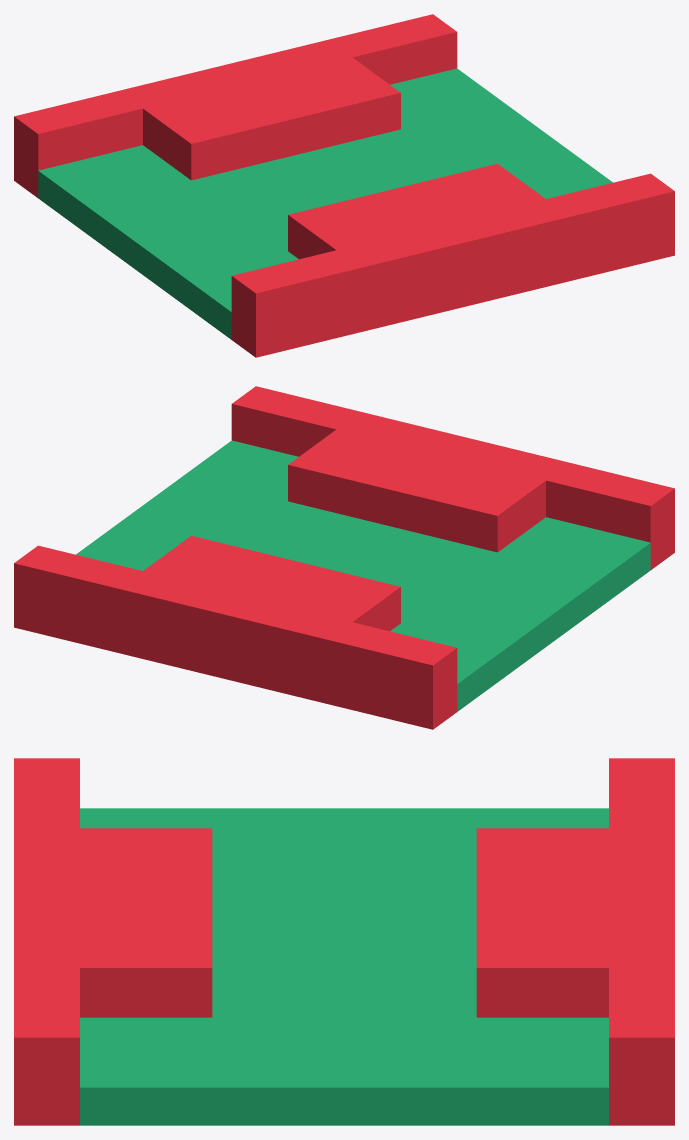
The model's file is narrowBlock.obj.
3 views of the same model, one above another, from view 1: azimuth 30°, elevation 25°; view 2: azimuth 150°, elevation 25°; view 3: azimuth 270°, elevation 25° (orthographic). The views are drawn at different scales.
Parts seen in each view (by area): view 1: narrowBlock; view 2: narrowBlock; view 3: narrowBlock.
Boxes of the visible parts, x1=… form: narrowBlock: x1=14, y1=14, x2=674, y2=357; narrowBlock: x1=14, y1=386, x2=674, y2=729; narrowBlock: x1=14, y1=758, x2=674, y2=1125.
Bounding box in the file's own units: 0.9999 × 0.1467 × 0.9999.
